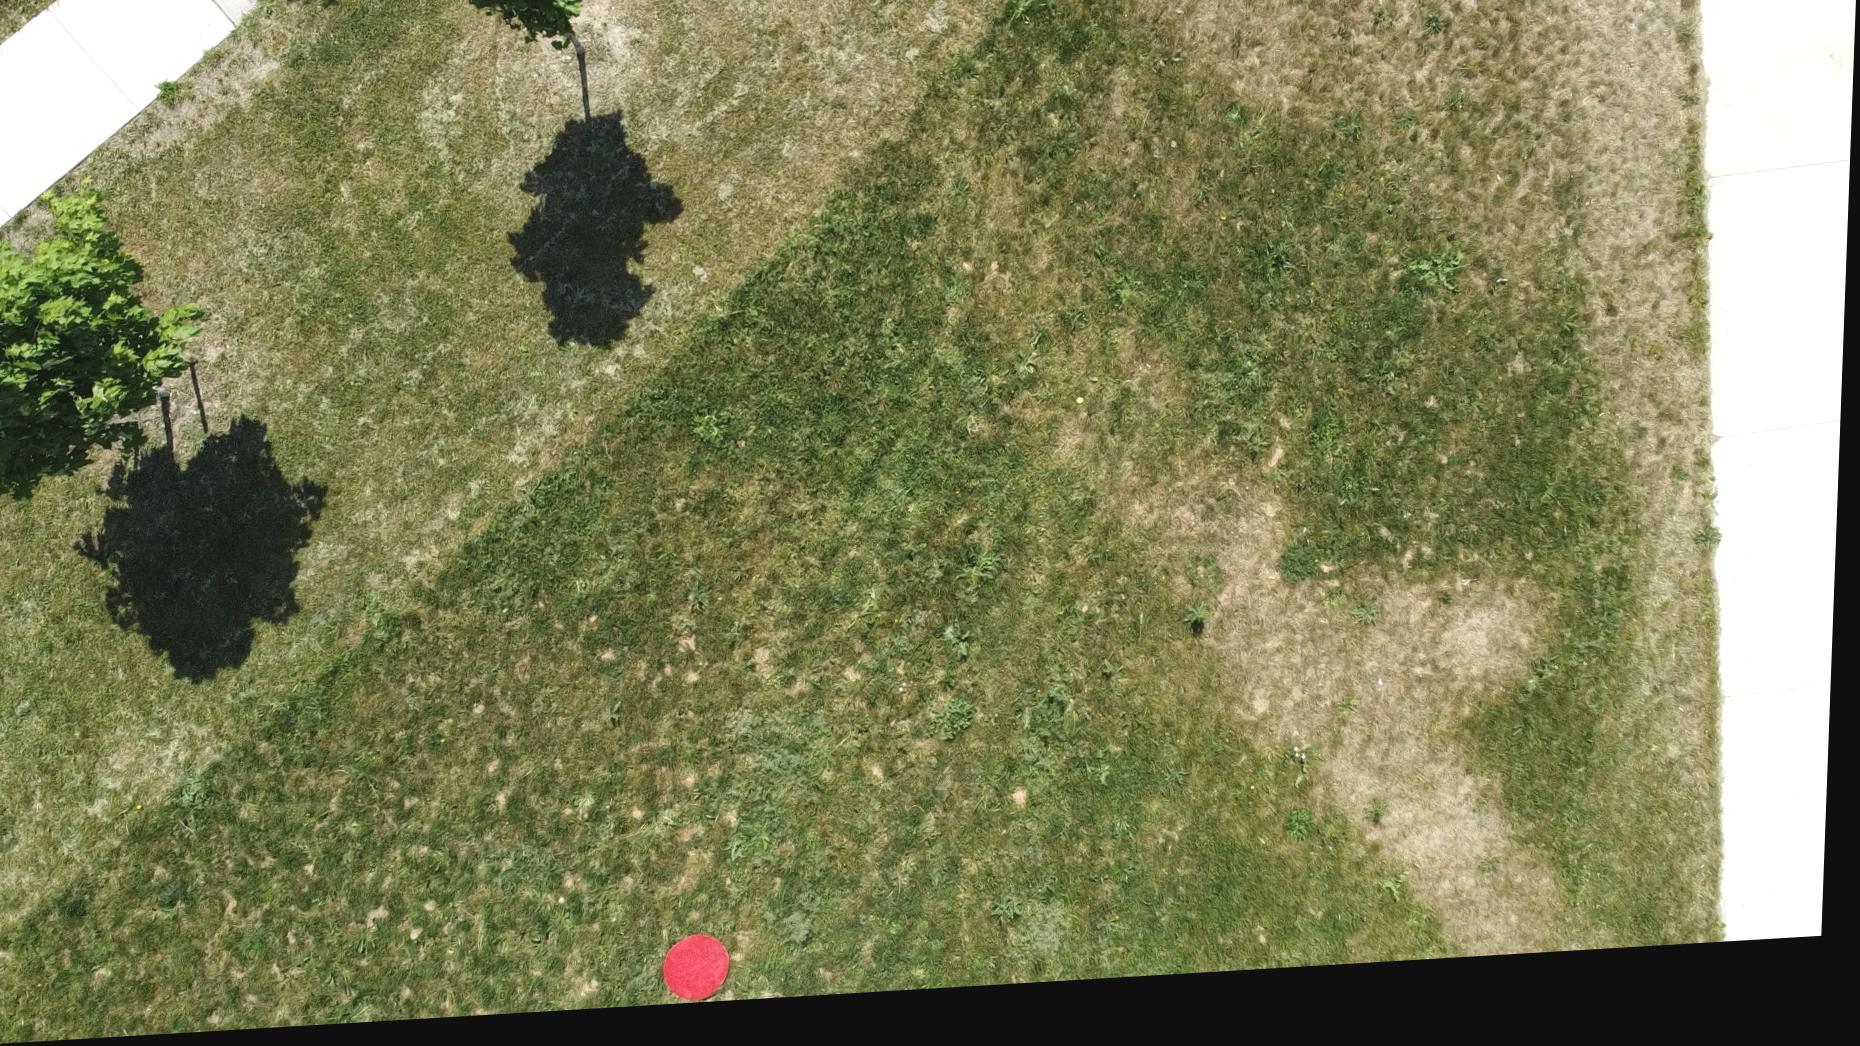Red: (668, 939, 740, 1013)
